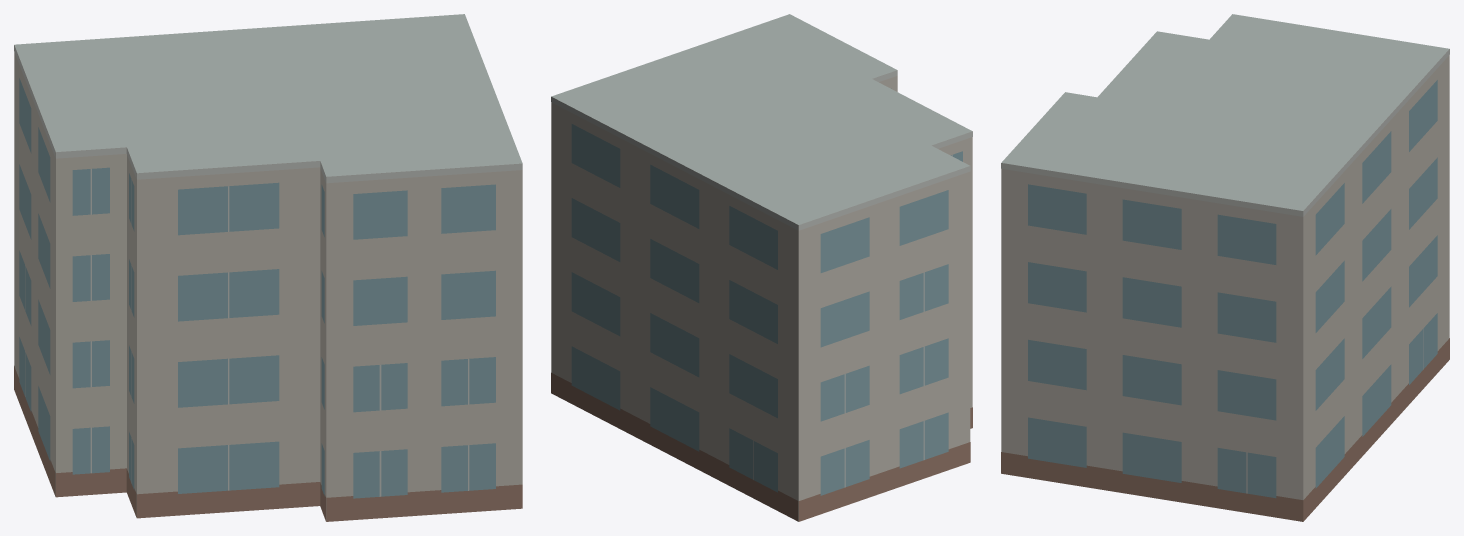
File: survey-upis-32809156.glb
3 renders of one model, left to right at view 1: azimuth 30°, elevation 25°; view 2: azimuth 150°, elevation 25°; view 3: azimuth 270°, elevation 25°, orthographic. The views are drawn at different scales.
Visible parts, largest first — view 1: survey-upis-32809156.tmp; view 2: survey-upis-32809156.tmp; view 3: survey-upis-32809156.tmp.
Part boxes in pixels (x1=…): survey-upis-32809156.tmp: x1=14, y1=14, x2=522, y2=521; survey-upis-32809156.tmp: x1=551, y1=14, x2=972, y2=521; survey-upis-32809156.tmp: x1=1001, y1=14, x2=1449, y2=521.
Size of the model in its own units: 17.62 by 12.95 by 16.95.
